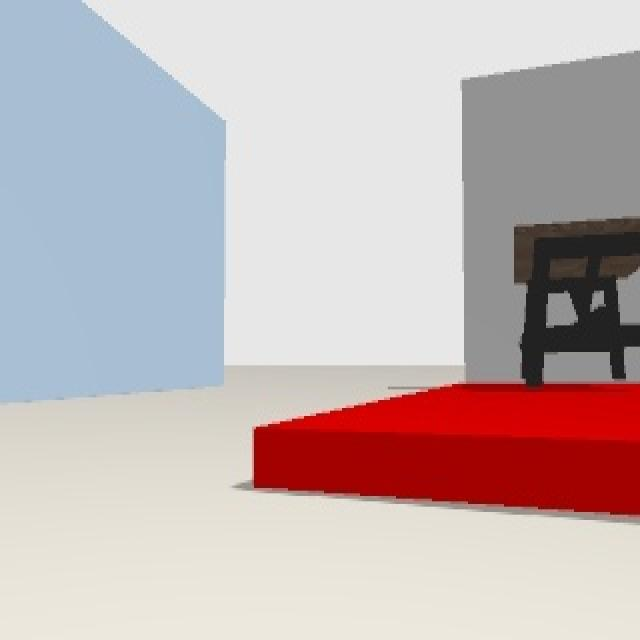dining: (512, 218, 640, 386)
